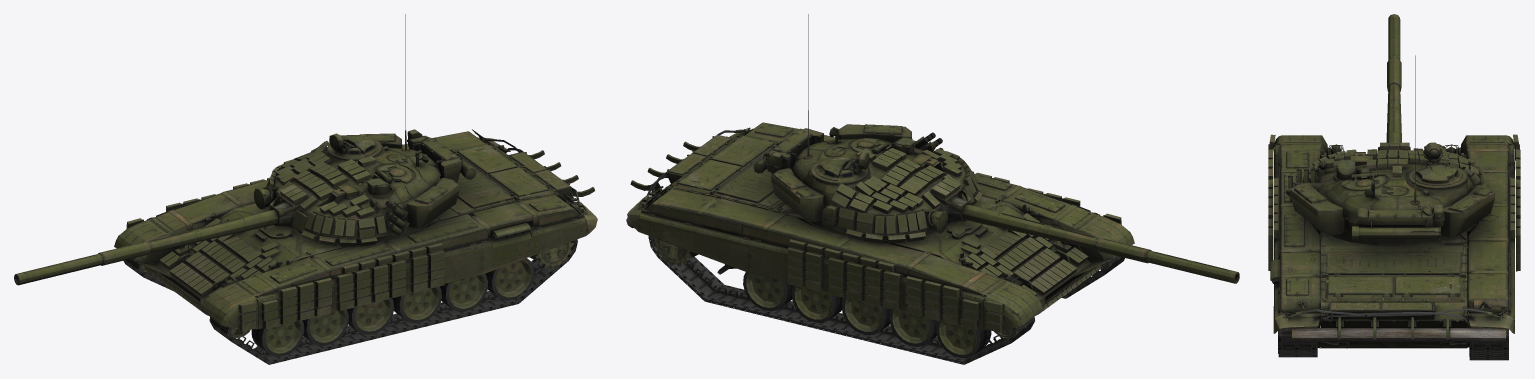
3 renders of one model, left to right at view 1: azimuth 30°, elevation 25°; view 2: azimuth 150°, elevation 25°; view 3: azimuth 270°, elevation 25°, orthographic. The views are drawn at different scales.
Parts seen in each view (by area): view 1: Object_6, Object_3, Object_5, Object_4; view 2: Object_6, Object_3, Object_5, Object_4; view 3: Object_6, Object_3, Object_5, Object_4.
Part boxes in pixels (x1,y1,x2,y2): Object_6: (14, 129, 597, 356); Object_3: (126, 141, 444, 331); Object_5: (123, 239, 577, 364); Object_4: (326, 135, 383, 161); Object_6: (626, 122, 1239, 358); Object_3: (787, 148, 1121, 332); Object_5: (648, 236, 1124, 364); Object_4: (810, 157, 869, 185); Object_6: (1270, 14, 1514, 351); Object_3: (1268, 134, 1520, 271); Object_5: (1278, 145, 1508, 360); Object_4: (1406, 164, 1462, 190).
Size of the model in its own units: 38.68 by 17.12 by 14.19.
5 materials, 4 textured.
